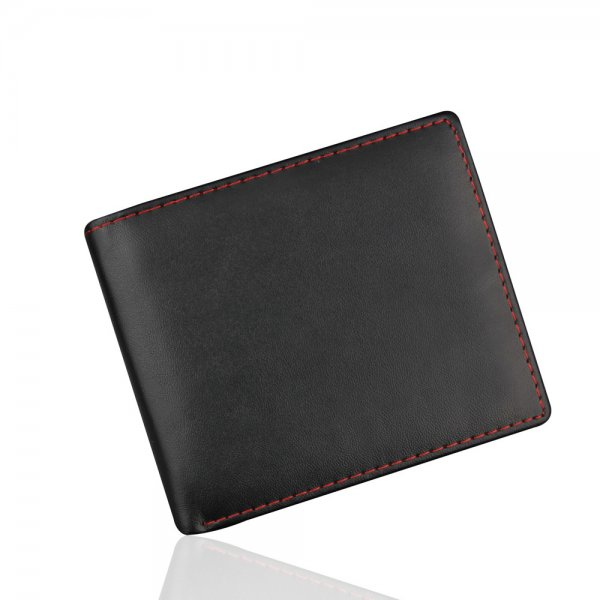monedero: (80, 109, 555, 540)
